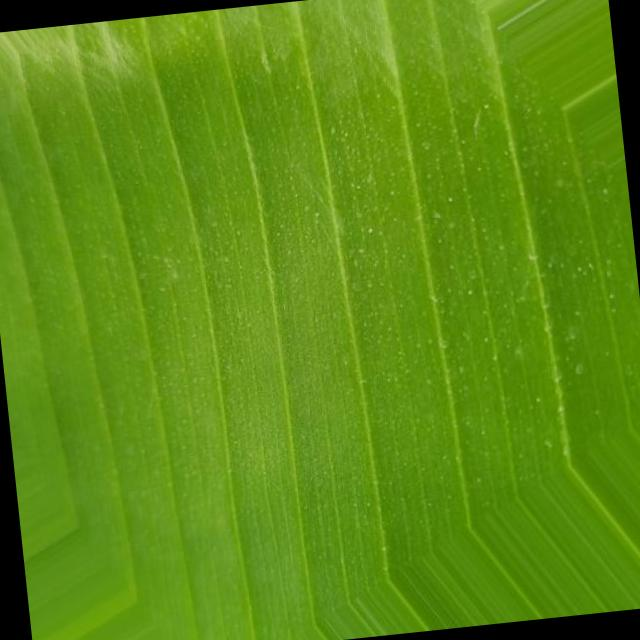Banana_Healthy: (70, 48, 564, 481)
